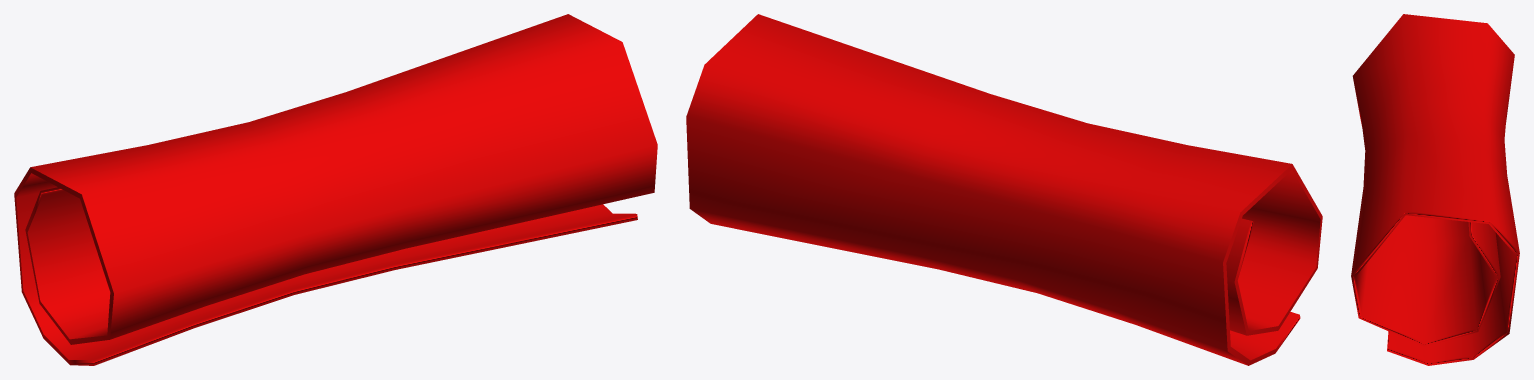
The model's file is Asset_Scroll.glb.
The picture shows the model from 3 angles, left to right: view 1: azimuth 30°, elevation 25°; view 2: azimuth 150°, elevation 25°; view 3: azimuth 270°, elevation 25°; orthographic projection. The views are drawn at different scales.
Parts seen in each view (by area): view 1: Asset_Scroll; view 2: Asset_Scroll; view 3: Asset_Scroll.
Part boxes in pixels (x1,y1,x2,y2): Asset_Scroll: (14, 14, 657, 365); Asset_Scroll: (686, 14, 1322, 365); Asset_Scroll: (1351, 14, 1519, 365).
Bounding box in the file's own units: 0.4753 × 0.1678 × 0.1573.
